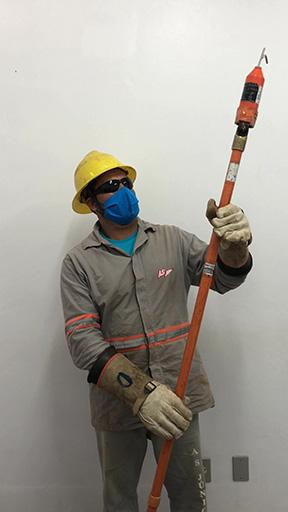Detector_Tensao_Contato: (233, 45, 273, 129)
Vara_Manobra: (145, 128, 249, 512)
